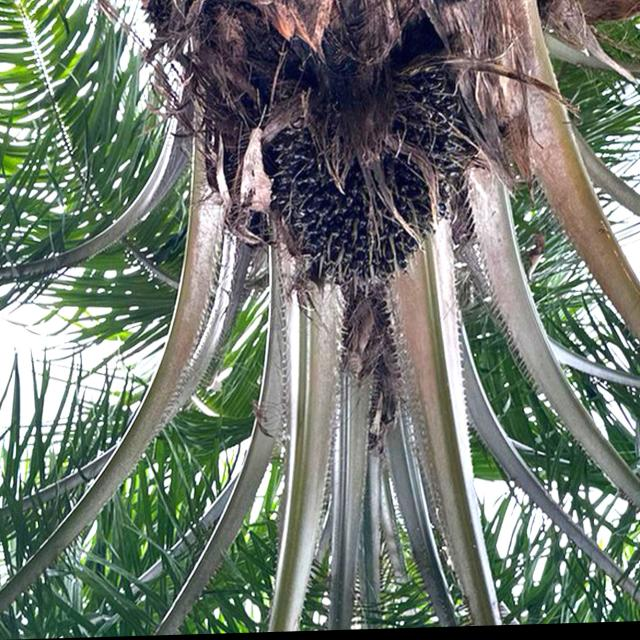unripe: (252, 85, 488, 304)
